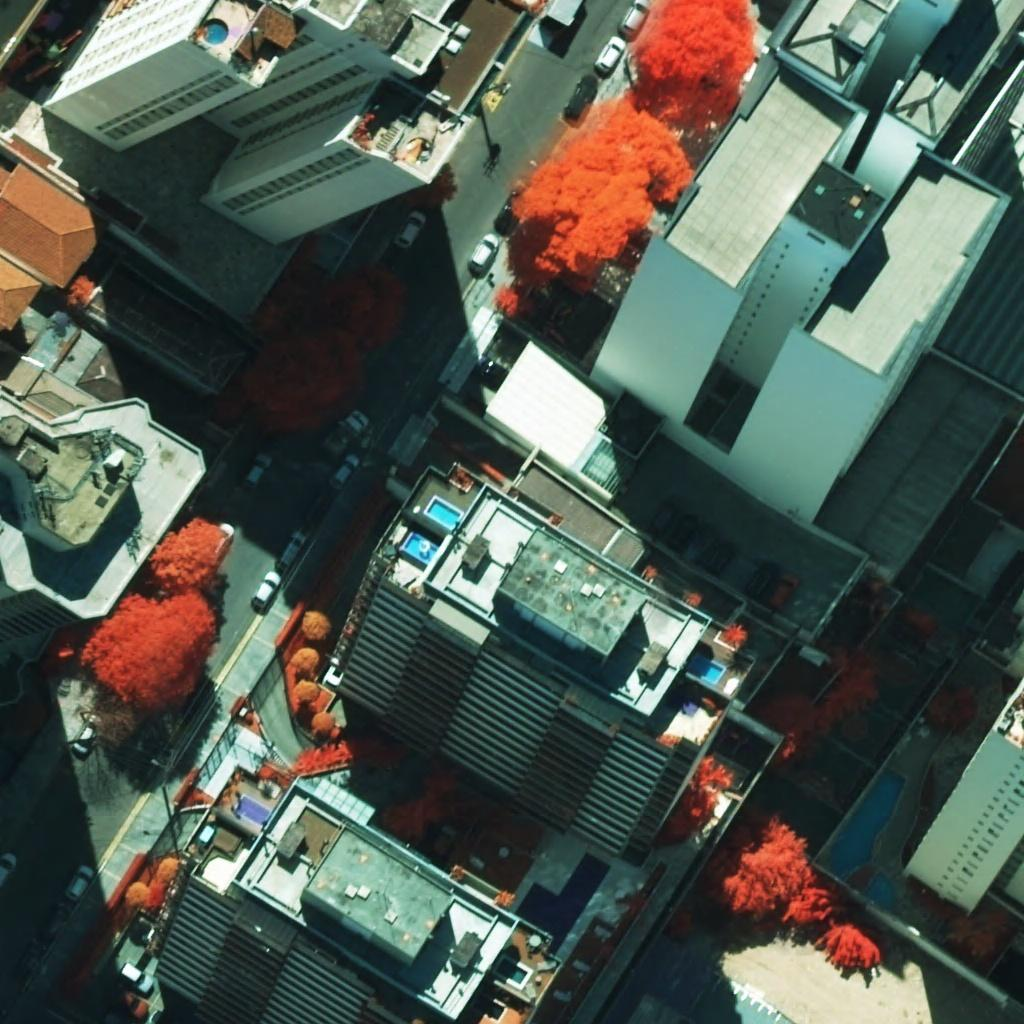pool: (831, 767, 905, 916), (515, 852, 610, 943), (404, 532, 440, 563), (236, 797, 270, 825), (427, 499, 460, 526), (690, 656, 723, 682), (497, 959, 527, 984), (203, 18, 228, 45)
